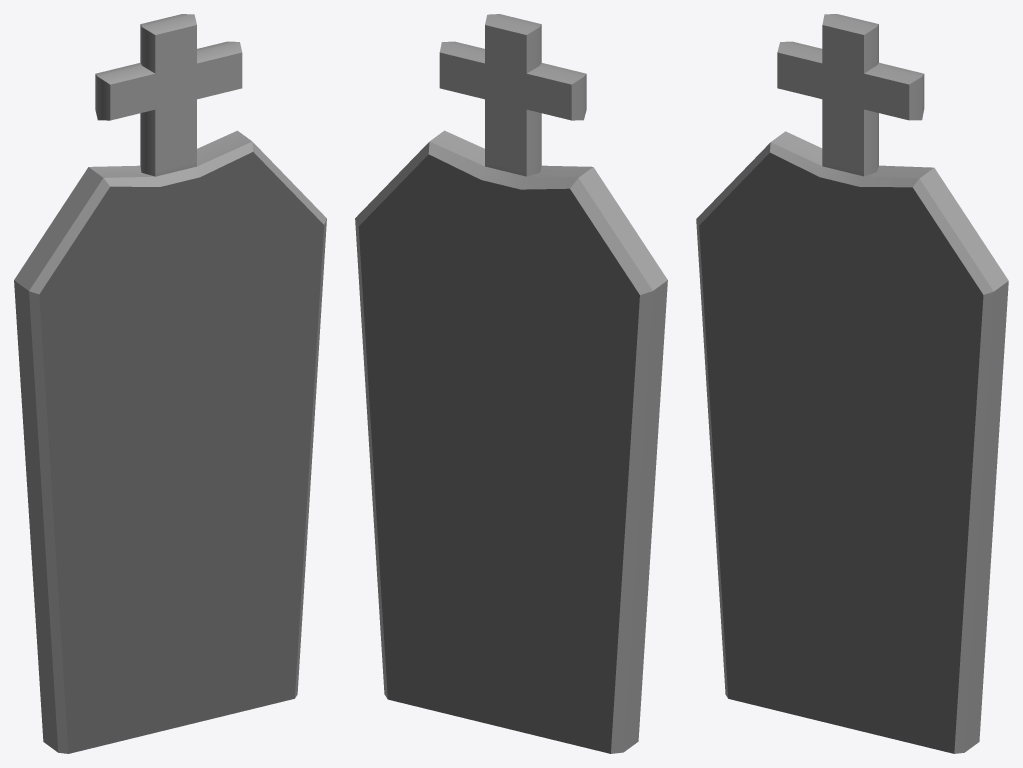
The model's file is Tombstone.fbx.
3 views of the same model, side by side, from view 1: azimuth 30°, elevation 25°; view 2: azimuth 150°, elevation 25°; view 3: azimuth 330°, elevation 25° (orthographic).
Parts seen in each view (by area): view 1: Tombstone; view 2: Tombstone; view 3: Tombstone.
Part boxes in pixels (x1,y1,x2,y2): Tombstone: (14,14,326,753); Tombstone: (355,14,667,753); Tombstone: (696,14,1008,753).
Bounding box in the file's own units: 2.15 × 4.81 × 0.2923.
